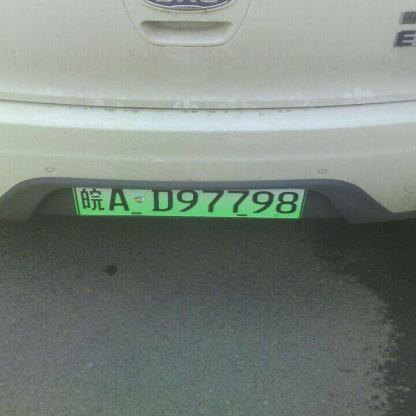lp: (75, 188, 305, 218)
